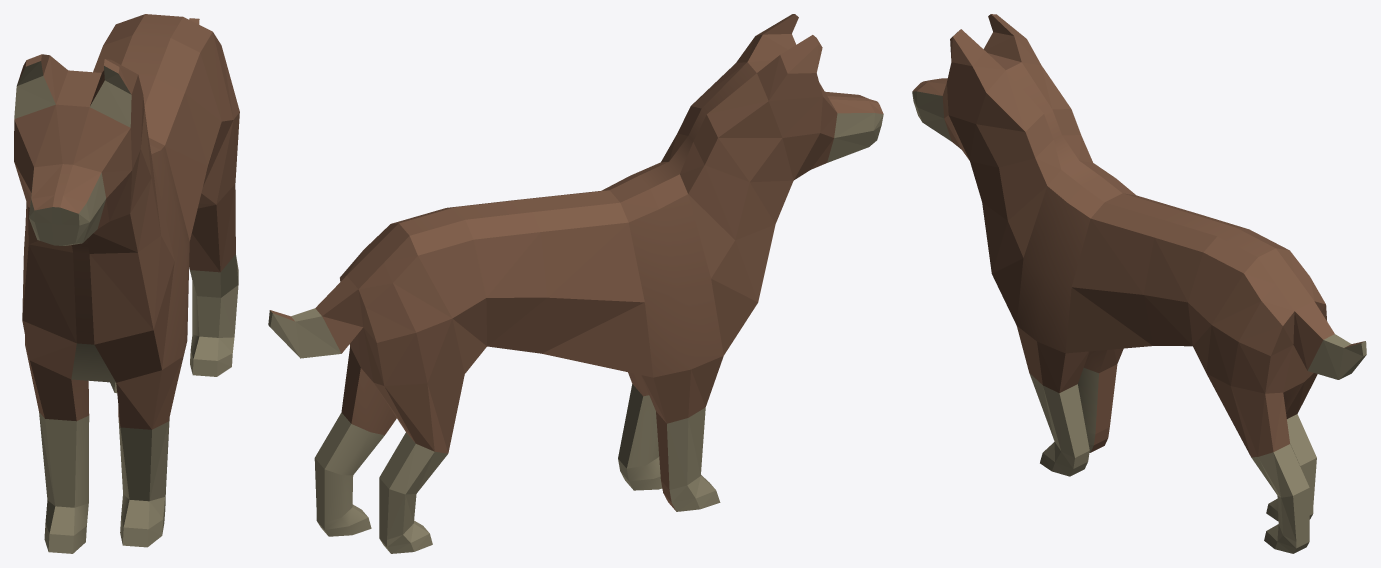
The model's file is dog.FBX.
3 views of the same model, side by side, from view 1: azimuth 30°, elevation 25°; view 2: azimuth 150°, elevation 25°; view 3: azimuth 270°, elevation 25° (orthographic). The views are drawn at different scales.
Parts seen in each view (by area): view 1: dog; view 2: dog; view 3: dog.
Part boxes in pixels (x1,y1,x2,y2): dog: [14, 14, 239, 553]; dog: [268, 14, 883, 553]; dog: [912, 14, 1366, 553].
Size of the model in its own units: 102 by 117 by 121.
Materials: 1 (1 with a texture image).
